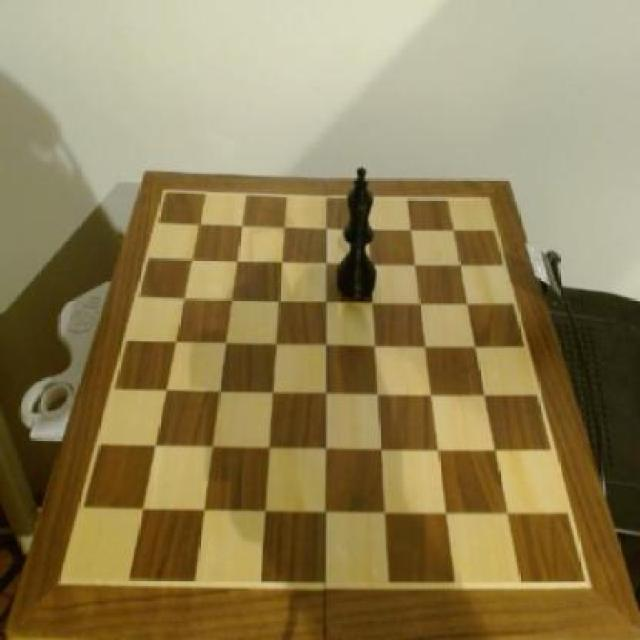black-bishop: (337, 166, 380, 299)
